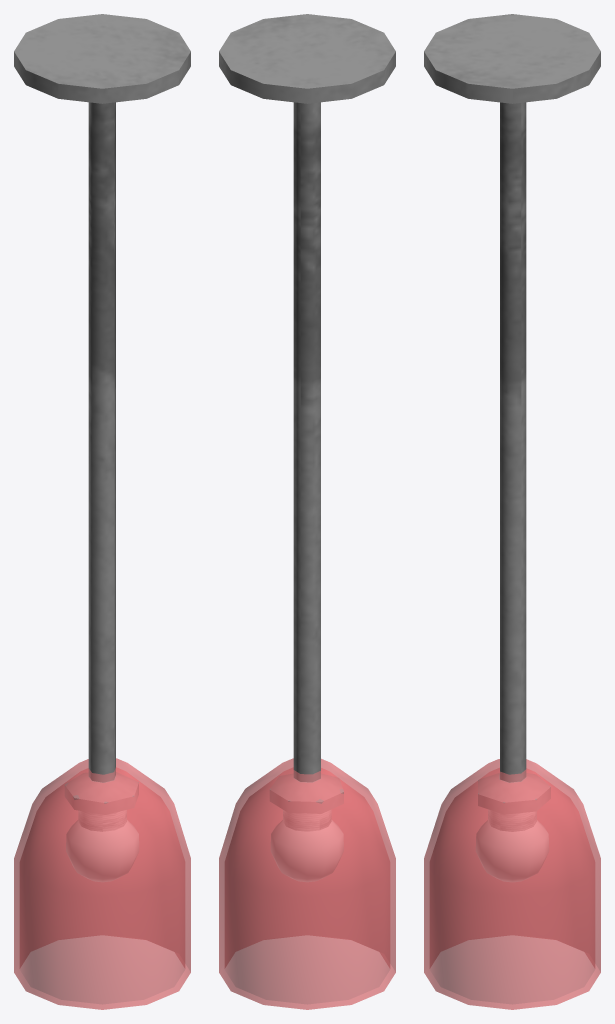
The model's file is Glass Lamp.fbx.
3 views of the same model, side by side, from view 1: azimuth 30°, elevation 25°; view 2: azimuth 150°, elevation 25°; view 3: azimuth 270°, elevation 25° (orthographic).
Visible parts, largest first — view 1: Circle; view 2: Circle; view 3: Circle.
Boxes of the visible parts, <box> form: Circle: <box>14,14,190,1009</box>; Circle: <box>219,14,395,1009</box>; Circle: <box>424,14,600,1009</box>.
Size of the model in its own units: 32.54 by 187 by 32.54.
